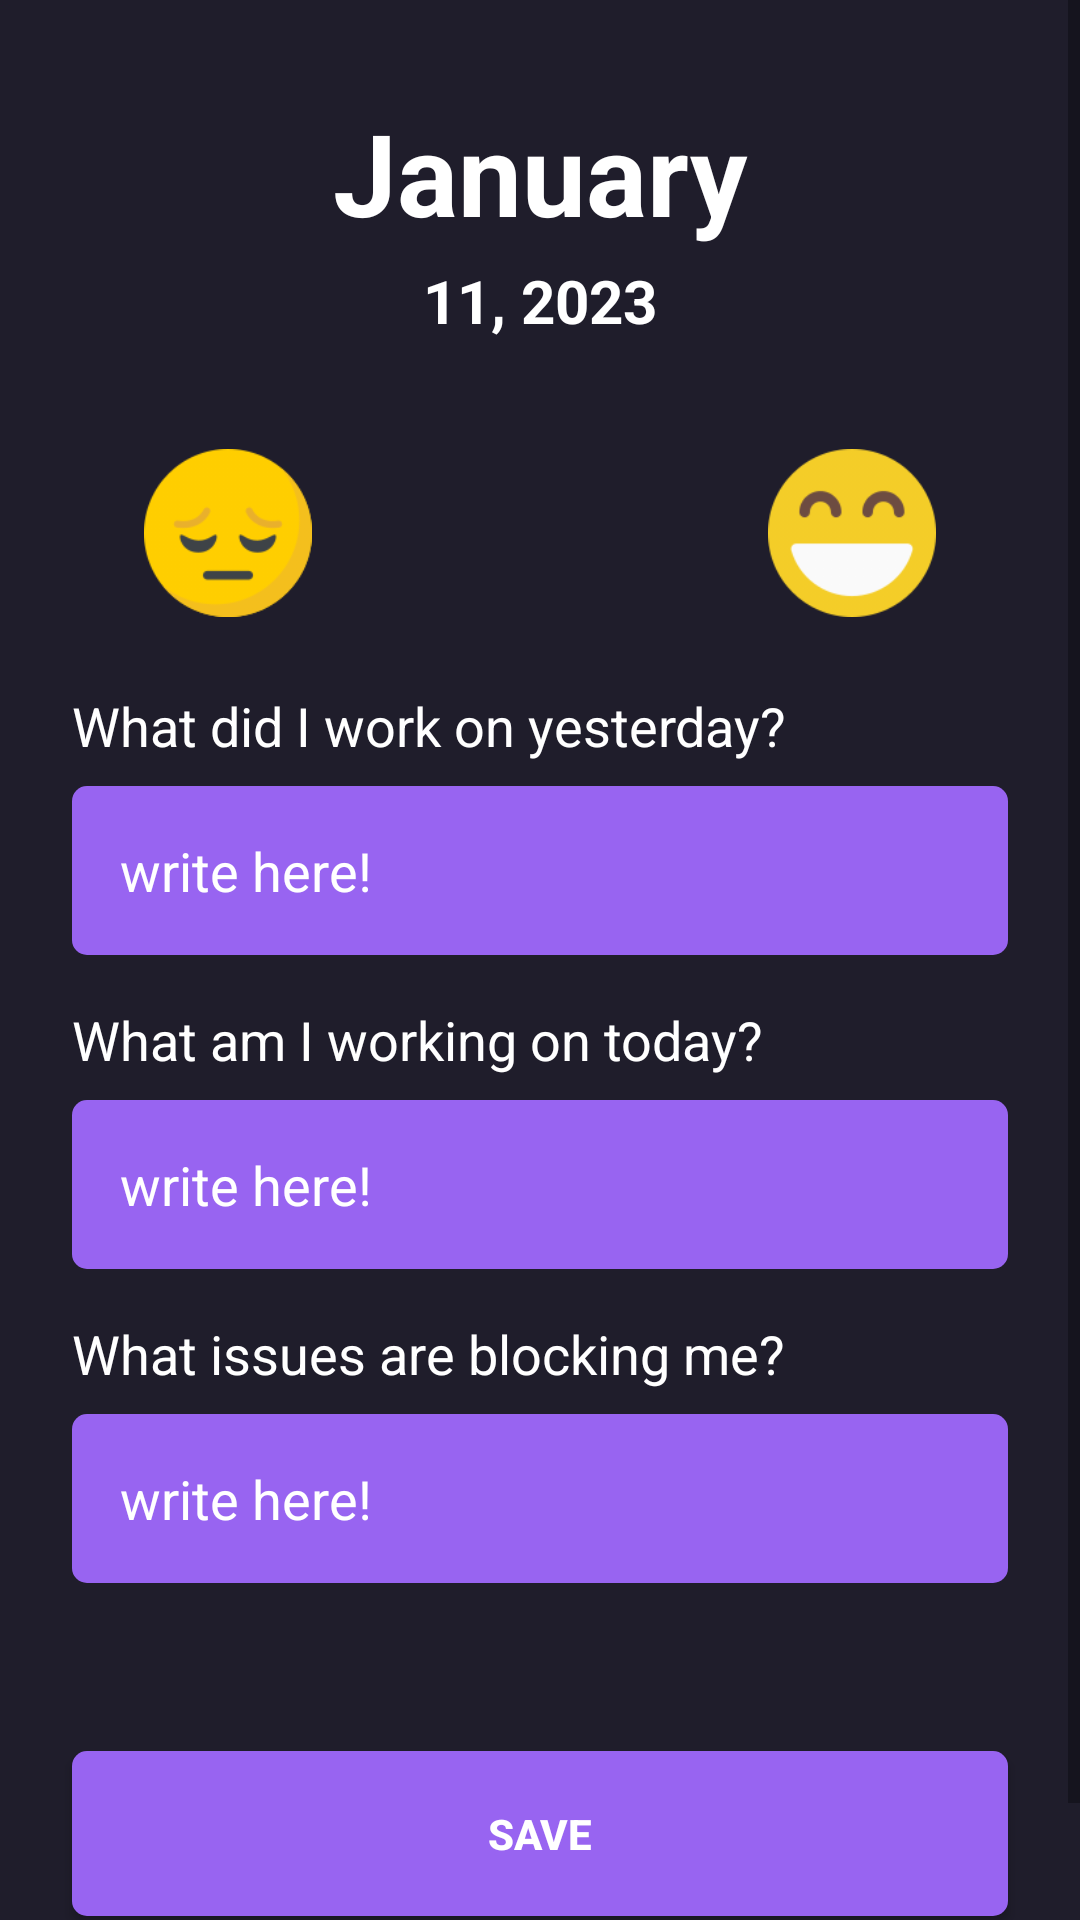

Where to tap for icons on this 1080 × 1920 app screen, as point (x, y):
happy: point (852, 533)
sad: point (228, 533)
